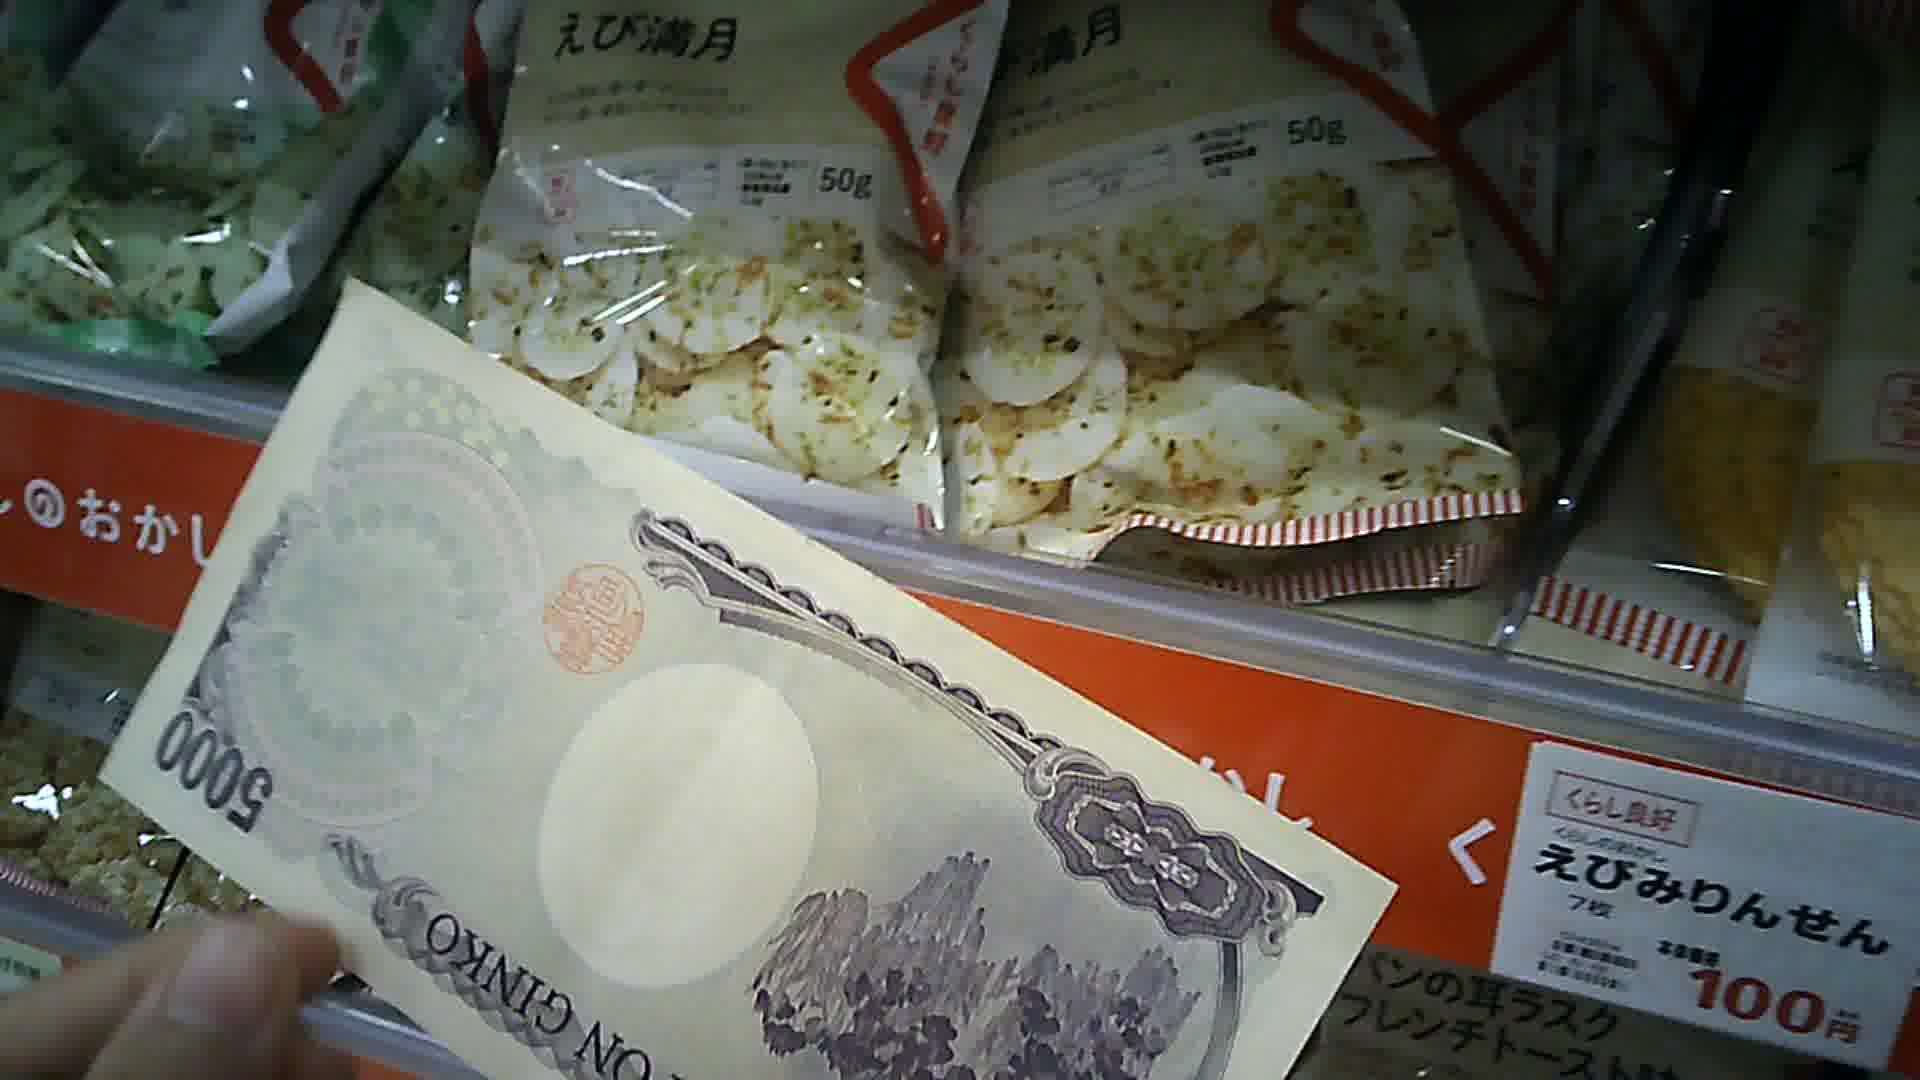5,000 Yen: (128, 270, 1371, 1072)
